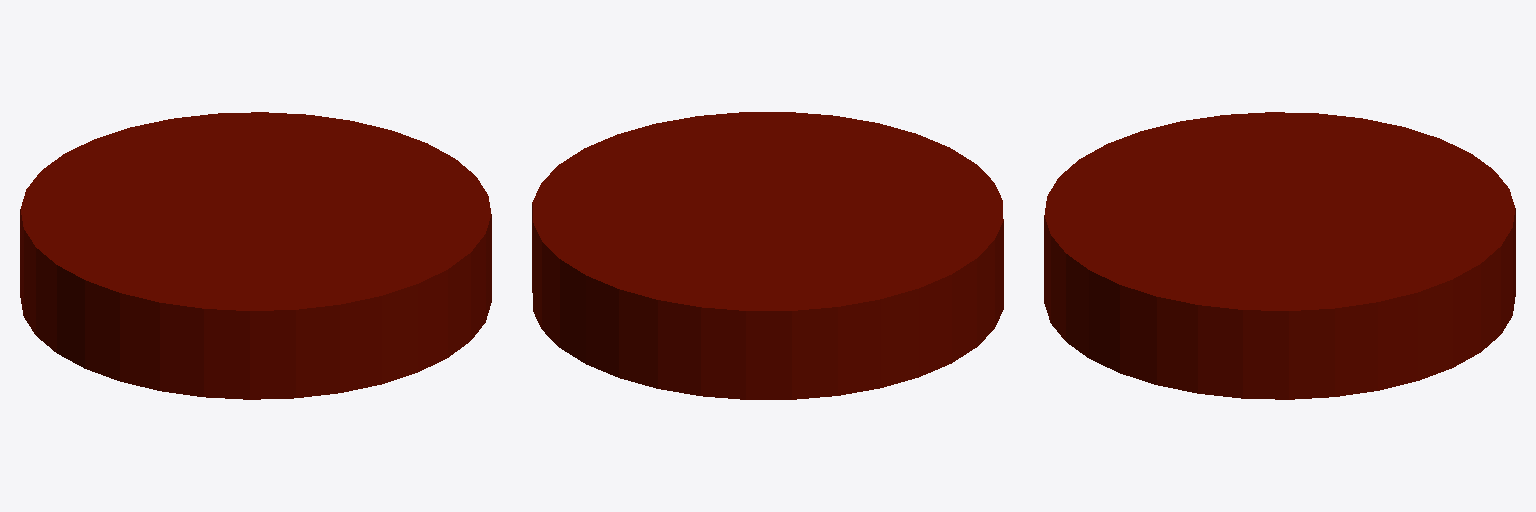
robot.urdf — Interference:
<?xml version="1.0"?>
<robot name="Interference">
  <link name="baseLink">
    <inertial>
      <origin xyz="0.0 0.0 0.0" rpy="0.0 0.0 0.0"/>
      <inertia ixx="0.0" ixy="0.0" ixz="0.0" iyy="0.0" iyz="0.0" izz="0.0"/>
      <mass value="0"/>
    </inertial>
    <visual>
      <origin xyz="0.0 0.0 0.0" rpy="0.0 0.0 -0.7472333823295499"/>
      <geometry>
        <cylinder radius="0.024102559487017006" length="0.01"/>
      </geometry>
      <material name="color">
        <color rgba="0.4473748015892518 0.07361992928970451 0.011141025892342005 1.0"/>
      </material>
    </visual>
  </link>
</robot>

--- What the picture shows (computed from the rendered views, not written in the file) ---
Views: 3 orthographic renders of the robot side by side, from view 1: azimuth 30°, elevation 25°; view 2: azimuth 150°, elevation 25°; view 3: azimuth 270°, elevation 25°.
Robot: Interference — 1 links, 0 joints (none); root link baseLink; default pose: every joint at zero.
Links seen in each view (by area): view 1: baseLink; view 2: baseLink; view 3: baseLink.
Link boxes in pixels (x1,y1,x2,y2): baseLink: (20,112,491,399); baseLink: (532,112,1003,399); baseLink: (1044,112,1515,399).
Bounding box of the posed robot: 0.0482 × 0.0482 × 0.01 m (x, y, z).
Geometry: primitives only (box / cylinder / sphere), no mesh files.